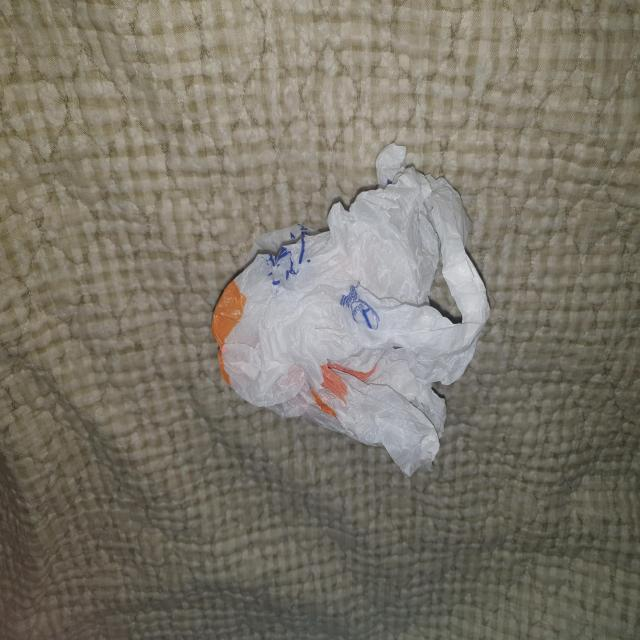plastic bag: (211, 140, 491, 477)
